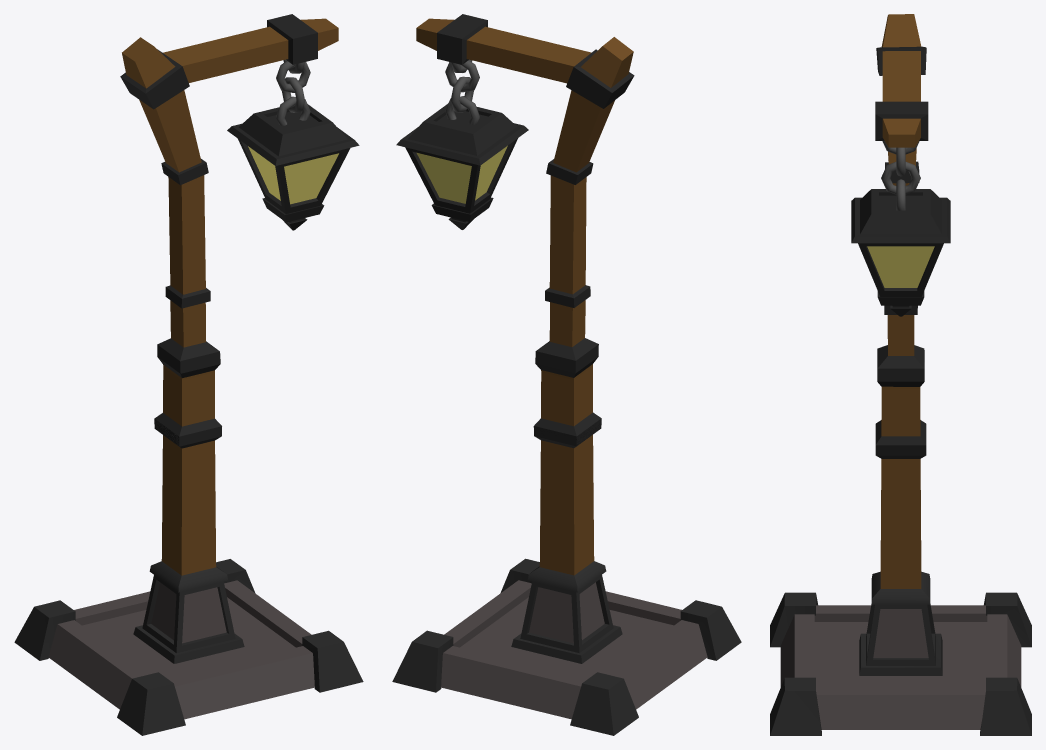
Rendered from street_lamp.glb.
3 renders of one model, left to right at view 1: azimuth 30°, elevation 25°; view 2: azimuth 150°, elevation 25°; view 3: azimuth 270°, elevation 25°, orthographic. The views are drawn at different scales.
Visible parts, largest first — view 1: Cube.001_2, Cube.002_4; view 2: Cube.001_2, Cube.002_4; view 3: Cube.001_2, Cube.002_4.
Part boxes in pixels (box(x1,y1,x2,y2)): Cube.001_2: box(14, 14, 363, 735); Cube.002_4: box(248, 146, 338, 204); Cube.001_2: box(392, 14, 741, 735); Cube.002_4: box(416, 145, 507, 203); Cube.001_2: box(770, 14, 1031, 735); Cube.002_4: box(867, 246, 934, 287).
Bounding box in the file's own units: 2.86 × 6.71 × 2.46.
